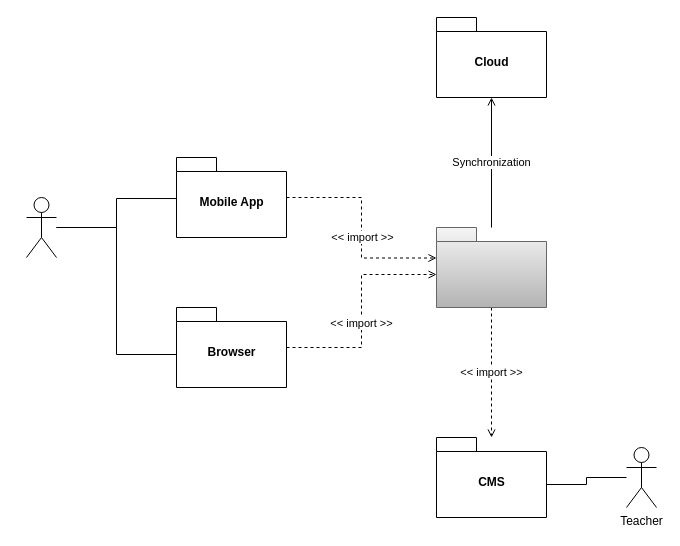
Image size: 680x546. Some labels were removed from this diagram. The shapes that lost their labels are listed below. From the top down, each one's centre as x and y in pixels, then its label:
At [41,227]: "Studdent".
At [491,267]: "React App".
